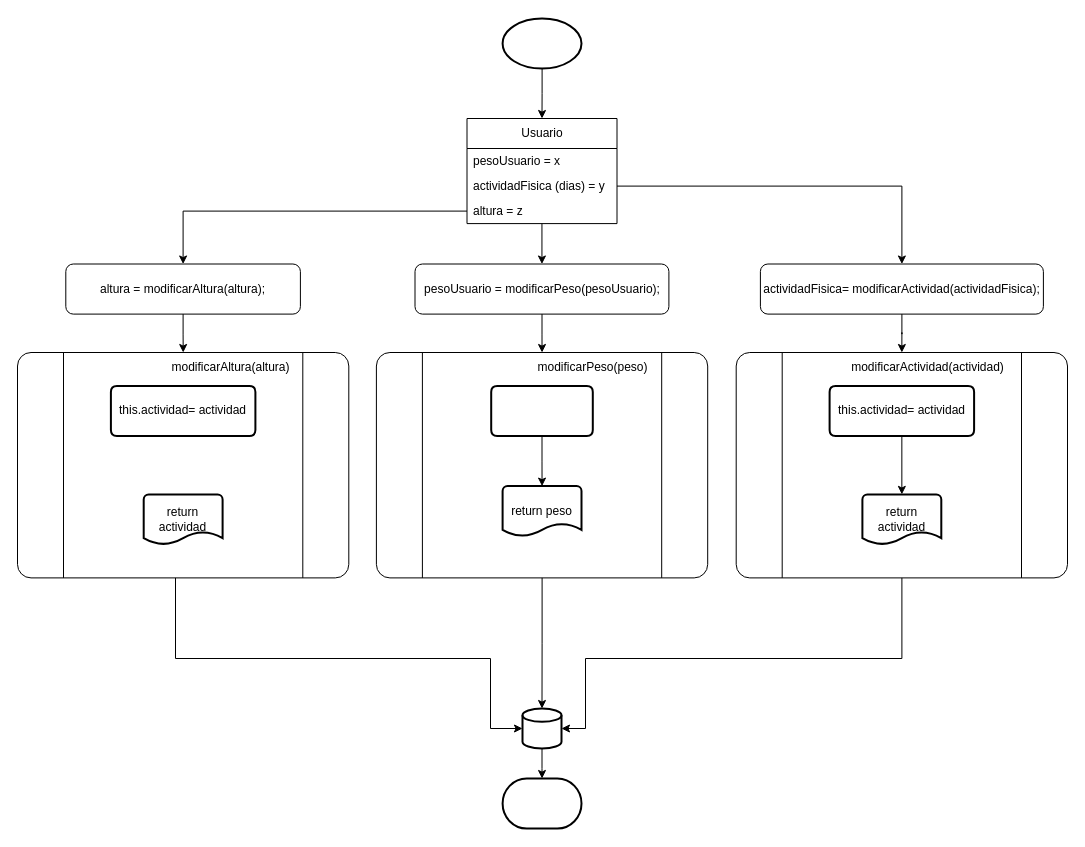
Image size: 1085x847. Some labels were removed from this diagram. The centre of each missing label's shape, as x and y in pixels:
Fin: point 541,803
Inicio: point 541,43
this.peso = peso: point 541,410
